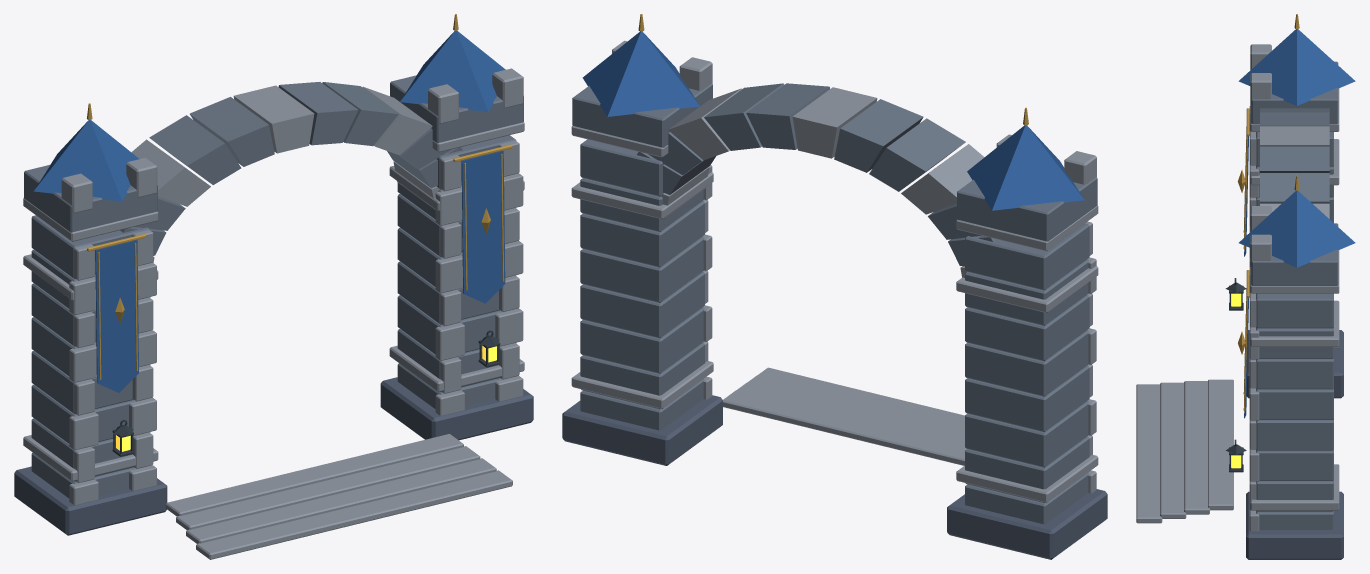
The model's file is BiomeGate.glb.
3 views of the same model, side by side, from view 1: azimuth 30°, elevation 25°; view 2: azimuth 150°, elevation 25°; view 3: azimuth 270°, elevation 25° (orthographic). The views are drawn at different scales.
Visible parts, largest first — view 1: Portal approach step.003, Blue pointed banner.001, Blue pointed banner, Tower plinth, Portal approach step.002, Portal approach step, Portal approach step.001, Tower plinth.001, Blue pyramidal cap, Blue pyramidal cap.001, Tower crown, Great portal voussoir_07 (+59 smaller); view 2: Tower plinth.001, Tower plinth, Blue pyramidal cap, Blue pyramidal cap.001, Portal approach step, Tower masonry course.007, Tower masonry course.003, Tower masonry course.005, Tower masonry course.011, Tower masonry course.013, Tower masonry course.004, Tower masonry course.010 (+32 smaller); view 3: Blue pyramidal cap.001, Blue pyramidal cap, Portal approach step.003, Tower plinth.001, Portal approach step, Portal approach step.002, Portal approach step.001, Tower masonry course.015, Tower masonry course.011, Tower masonry course.013, Tower crown.001, Tower masonry course.010 (+22 smaller).
Boxes of the visible parts, x1,y1,x2,y2 form: Portal approach step.003: (196,470,512,559); Blue pointed banner.001: (461,150,505,303); Blue pointed banner: (95,240,138,392); Tower plinth: (14,466,167,535); Portal approach step.002: (186,458,496,543); Portal approach step: (165,434,463,516); Portal approach step.001: (176,446,480,529); Tower plinth.001: (380,377,533,440); Blue pyramidal cap: (34,120,139,201); Blue pyramidal cap.001: (400,30,505,111); Tower crown: (24,164,157,232); Great portal voussoir_07: (190,97,274,166); Tower plinth.001: (562,395,722,465); Tower plinth: (947,489,1107,559); Blue pyramidal cap: (967,125,1084,210); Blue pyramidal cap.001: (582,31,700,116); Portal approach step: (723,390,966,465); Tower masonry course.007: (965,223,1089,290); Tower masonry course.003: (965,365,1089,432); Tower masonry course.005: (965,295,1089,361); Tower masonry course.011: (580,272,704,338); Tower masonry course.013: (580,201,704,267); Tower masonry course.004: (965,330,1088,396); Tower masonry course.010: (580,307,704,373); Blue pyramidal cap.001: (1239,190,1355,267); Blue pyramidal cap: (1238,29,1355,105); Portal approach step.003: (1136,384,1162,523); Tower plinth.001: (1246,491,1343,559); Portal approach step: (1208,379,1233,510); Portal approach step.002: (1160,382,1186,518); Portal approach step.001: (1184,381,1209,514); Tower masonry course.015: (1256,293,1333,328); Tower masonry course.011: (1256,419,1333,450); Tower masonry course.013: (1256,358,1333,389); Tower crown.001: (1251,223,1338,285); Tower masonry course.010: (1256,449,1333,480).
Size of the model in its own units: 23 by 18.4 by 10.1.
